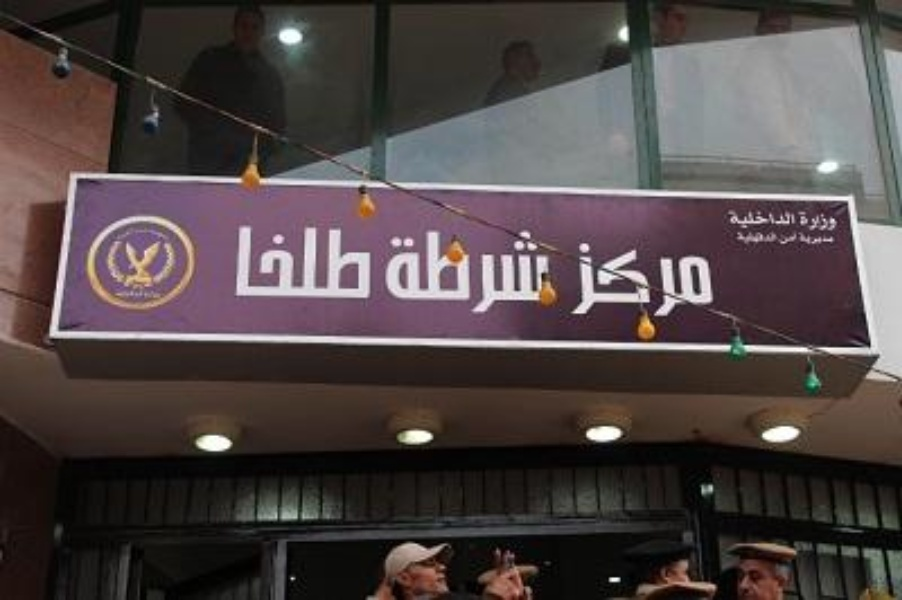text: (385, 226, 400, 314), (401, 226, 416, 314), (417, 226, 432, 314), (433, 226, 448, 314), (449, 226, 464, 314), (465, 226, 480, 314), (481, 226, 496, 314), (497, 226, 512, 314), (513, 226, 528, 314), (529, 226, 544, 314), (593, 240, 608, 319), (609, 240, 624, 319), (625, 240, 640, 319), (641, 240, 656, 319), (657, 240, 672, 319), (673, 240, 688, 319), (689, 240, 704, 319), (241, 222, 256, 301), (257, 222, 272, 301), (273, 222, 288, 301), (289, 222, 304, 301), (305, 222, 320, 301), (321, 222, 336, 301), (337, 222, 352, 301), (353, 222, 368, 301), (578, 240, 592, 319), (705, 240, 715, 319), (545, 226, 553, 314), (369, 222, 375, 301), (801, 210, 816, 231), (817, 210, 832, 231), (737, 208, 752, 228), (753, 208, 768, 228), (769, 208, 784, 228), (722, 208, 736, 228), (785, 208, 797, 228), (237, 222, 240, 301), (753, 231, 768, 246), (769, 231, 784, 246), (785, 231, 800, 246), (801, 231, 816, 246), (817, 231, 832, 246), (738, 231, 752, 246), (794, 210, 800, 231), (833, 210, 839, 231), (833, 231, 839, 246)
